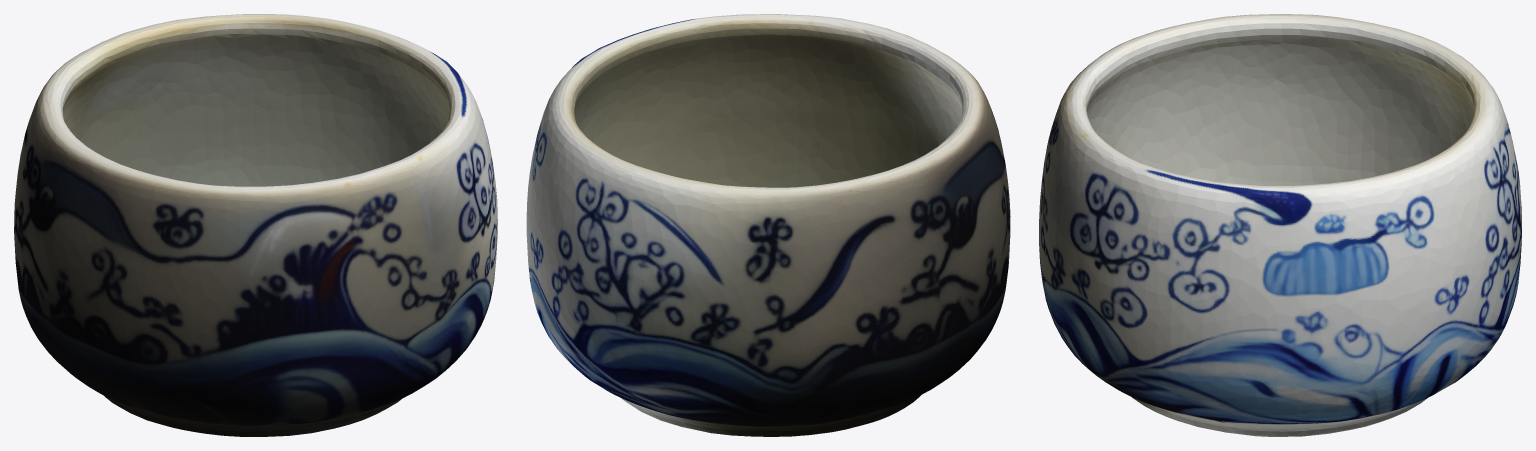
File: ceramic-napkin-ring-japanese.jpeg.glb
3 views of the same model, side by side, from view 1: azimuth 30°, elevation 25°; view 2: azimuth 150°, elevation 25°; view 3: azimuth 270°, elevation 25° (orthographic).
Parts seen in each view (by area): view 1: world; view 2: world; view 3: world.
Part boxes in pixels (box(x1,y1,x2,y2)): world: box(14, 14, 497, 436); world: box(526, 14, 1010, 436); world: box(1039, 14, 1521, 436).
Bounding box in the file's own units: 0.9991 × 0.6118 × 0.9986.
Materials: 1 (1 with a texture image).
